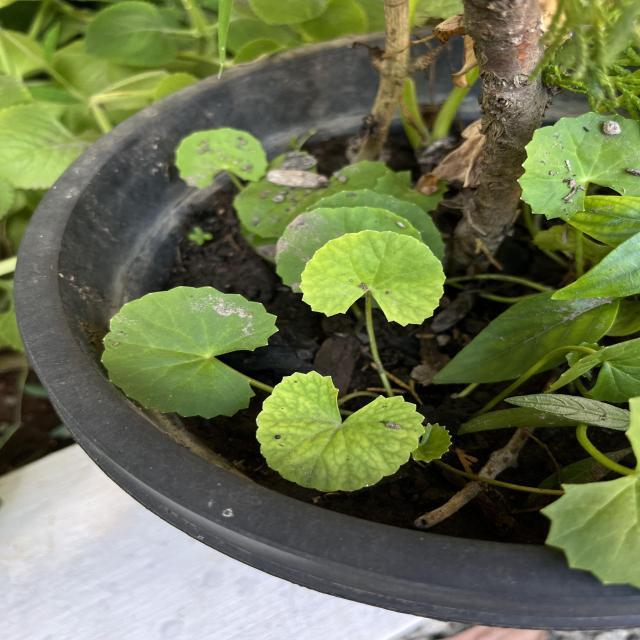Centella asiatica: (96, 281, 283, 422), (252, 366, 429, 496), (295, 226, 450, 331)
